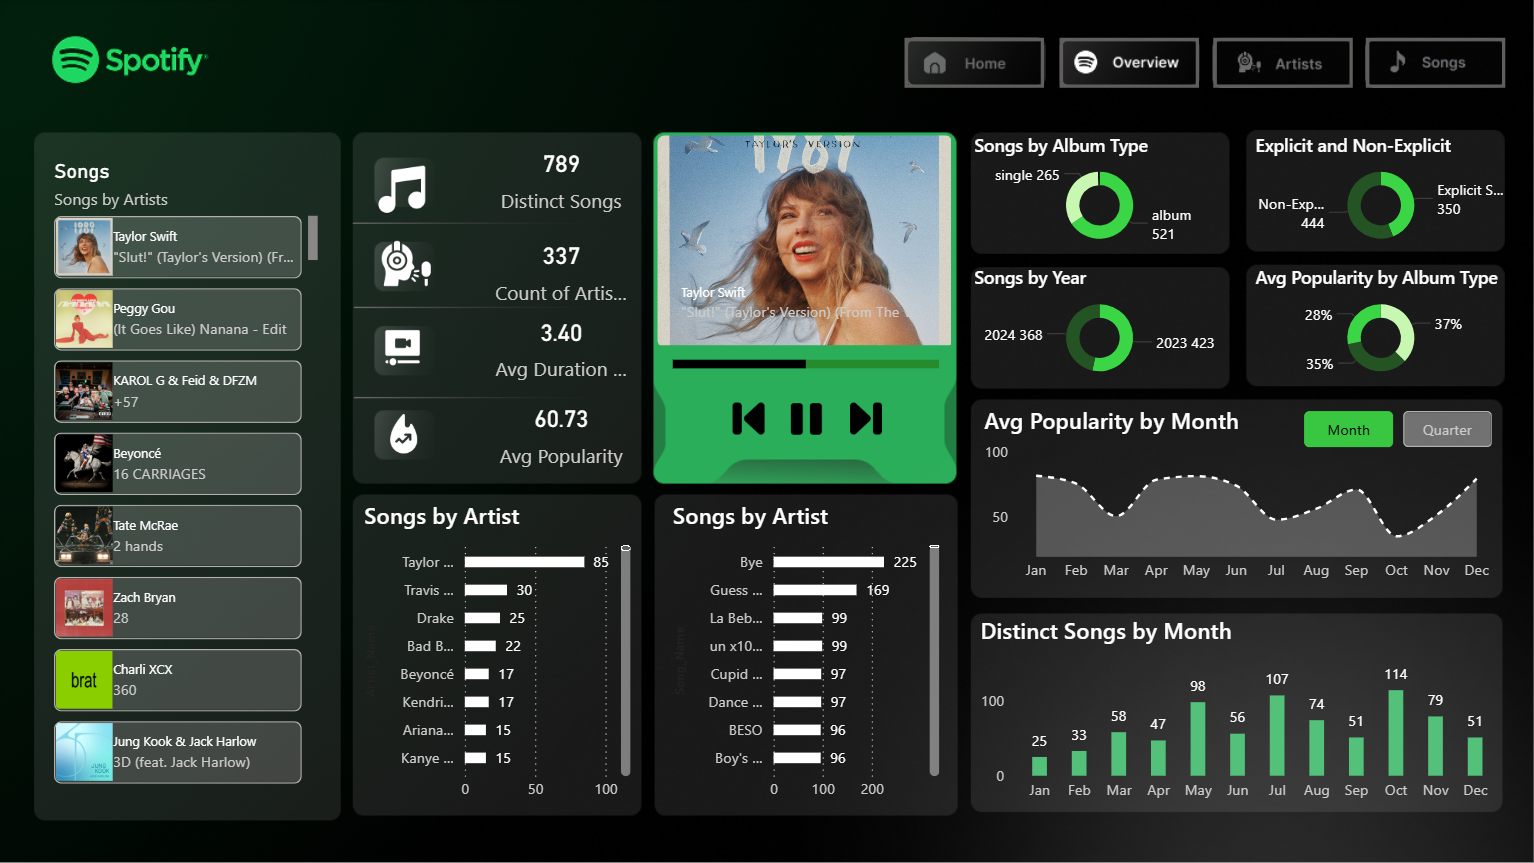

What the dashboard file says about the page in this screenshot:
{"tool":"powerbi","page":{"name":"Overview","canvas":[1280,720],"ordinal":1},"visuals":[{"type":"clusteredBarChart","title":"Songs by Artist","fields":{"Category":["spotify-top-50-world.Artist_Name"],"Y":["_Measures.Distinct Songs"]},"box":[299.9,416.6,231.6,258.6],"z":0},{"type":"clusteredBarChart","title":"Songs by Artist","fields":{"Category":["spotify-top-50-world.Song_Name"],"Y":["Sum(spotify-top-50-world.Popularity_Score)"]},"box":[556.6,416.6,231.6,258.6],"z":1000},{"type":"areaChart","title":"Avg Popularity by Month","fields":{"Category":["DimDate.Month_Name"],"Y":["_Measures.Avg Popularity"]},"box":[816.2,337.5,432.9,155.2],"z":2000},{"type":"advancedSlicerVisual","fields":{"Values":["Slicer.Slicer"]},"box":[1081.8,337.5,167.4,40.2],"z":3000},{"type":"donutChart","title":"Songs by Album Type","fields":{"Category":["spotify-top-50-world.Album_Type"],"Y":["_Measures.Distinct Songs"]},"box":[807.8,111.3,218.8,101],"z":4000},{"type":"donutChart","title":"Explicit and Non-Explicit","fields":{"Y":["_Measures.Explicit Songs","_Measures.Non-Explicit Songs"]},"box":[1041.6,111.3,218.8,101],"z":5000},{"type":"donutChart","title":"Songs by Year","fields":{"Category":["DimDate.year"],"Y":["_Measures.Distinct Songs"]},"box":[807.5,221.3,218.8,101],"z":6000},{"type":"donutChart","title":"Avg Popularity by Album Type","fields":{"Category":["spotify-top-50-world.Album_Type"],"Y":["_Measures.Avg Popularity"]},"box":[1041.3,221.3,218.8,101],"z":7000},{"type":"clusteredColumnChart","fields":{"Category":["DimDate.Month_Name"],"Y":["_Measures.Distinct Songs"]},"box":[812.5,512.4,441.3,163.6],"z":8000},{"type":"card","fields":{"Values":["_Measures.Distinct Songs"]},"box":[409.3,112.8,119.8,69.8],"z":9000},{"type":"card","fields":{"Values":["Count(spotify-top-50-world.Artist_Name)"]},"box":[409.3,190.7,119.8,69.8],"z":10000},{"type":"card","fields":{"Values":["_Measures.Avg Duration Minutes"]},"box":[409.8,253.5,119.8,69.8],"z":11000},{"type":"card","fields":{"Values":["_Measures.Avg Popularity"]},"box":[409.8,325.6,119.8,69.8],"z":12000},{"type":"image","box":[325.6,345.3,36,32.6],"z":13000},{"type":"image","box":[318.6,200,43,40.7],"z":14000},{"type":"image","box":[317.4,132.6,39.5,50],"z":15000},{"type":"image","box":[312.8,272.1,48.8,34.9],"z":16000},{"type":"advancedSlicerVisual","title":"Songs","fields":{"Values":["spotify-top-50-world.Song_Name"]},"box":[42.6,133,229.7,527.9],"z":17000},{"type":"advancedSlicerVisual","title":"Songs","fields":{"Values":["spotify-top-50-world.Song_Name"]},"box":[523.3,107,296.5,187.2],"z":18000},{"type":"hundredPercentStackedBarChart","fields":{"Y":["_Measures.Avg Popularity","Avg(spotify-top-50-world.Popularity_Score)"]},"box":[557,264,231.4,73.3],"z":19000},{"type":"image","box":[702.3,333.7,39.5,30.2],"z":20000},{"type":"image","box":[644.2,320.9,58.1,55.8],"z":21000},{"type":"image","box":[604.7,333.7,39.5,30.2],"z":22000},{"type":"shape","box":[545.4,103.5,254.7,300],"z":23000},{"type":"actionButton","box":[1010.9,32.1,116.3,41.9],"z":24000},{"type":"actionButton","box":[1137.7,32.1,116.3,41.9],"z":25000},{"type":"actionButton","box":[754.7,32.6,116.3,41.9],"z":26000},{"type":"actionButton","box":[883.7,32.6,116.3,41.9],"z":27000}]}

Visuals, with their boxes in screenshot pixels (x1, y1, x2, y2), scaled from the page's 1280x720 canvas onto the 1534x863 screenshot:
"Songs by Artist" clusteredBarChart: [359,499,637,809]
"Songs by Artist" clusteredBarChart: [667,499,945,809]
"Avg Popularity by Month" areaChart: [978,405,1497,591]
advancedSlicerVisual - Slicer.Slicer: [1296,405,1497,453]
"Songs by Album Type" donutChart: [968,133,1230,254]
"Explicit and Non-Explicit" donutChart: [1248,133,1511,254]
"Songs by Year" donutChart: [968,265,1230,386]
"Avg Popularity by Album Type" donutChart: [1248,265,1510,386]
clusteredColumnChart - DimDate.Month_Name x _Measures.Distinct Songs: [974,614,1503,810]
card - _Measures.Distinct Songs: [491,135,634,219]
card - Count(spotify-top-50-world.Artist_Name): [491,229,634,312]
card - _Measures.Avg Duration Minutes: [491,304,635,388]
card - _Measures.Avg Popularity: [491,390,635,474]
image: [390,414,433,453]
image: [382,240,433,289]
image: [380,159,428,219]
image: [375,326,433,368]
"Songs" advancedSlicerVisual: [51,159,326,792]
"Songs" advancedSlicerVisual: [627,128,982,353]
hundredPercentStackedBarChart - _Measures.Avg Popularity x Avg(spotify-top-50-world.Popularity_Score): [668,316,945,404]
image: [842,400,889,436]
image: [772,385,842,452]
image: [725,400,772,436]
shape: [654,124,959,484]
actionButton: [1212,38,1351,89]
actionButton: [1363,38,1503,89]
actionButton: [904,39,1044,89]
actionButton: [1059,39,1198,89]
